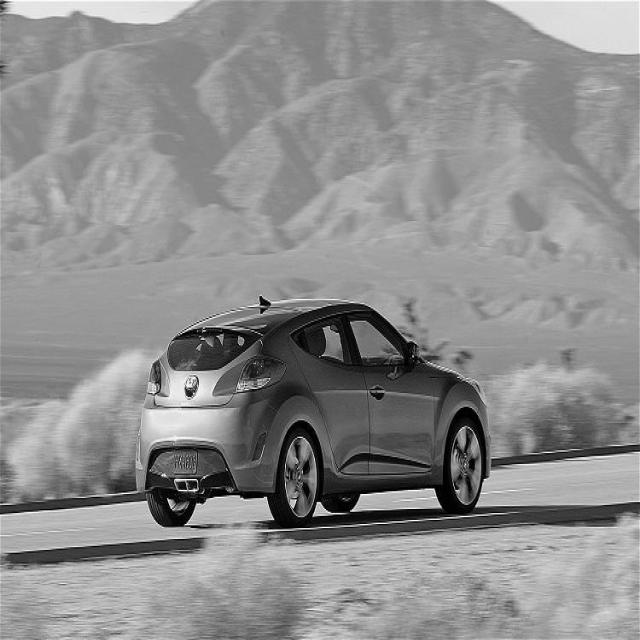car: (135, 295, 491, 528)
